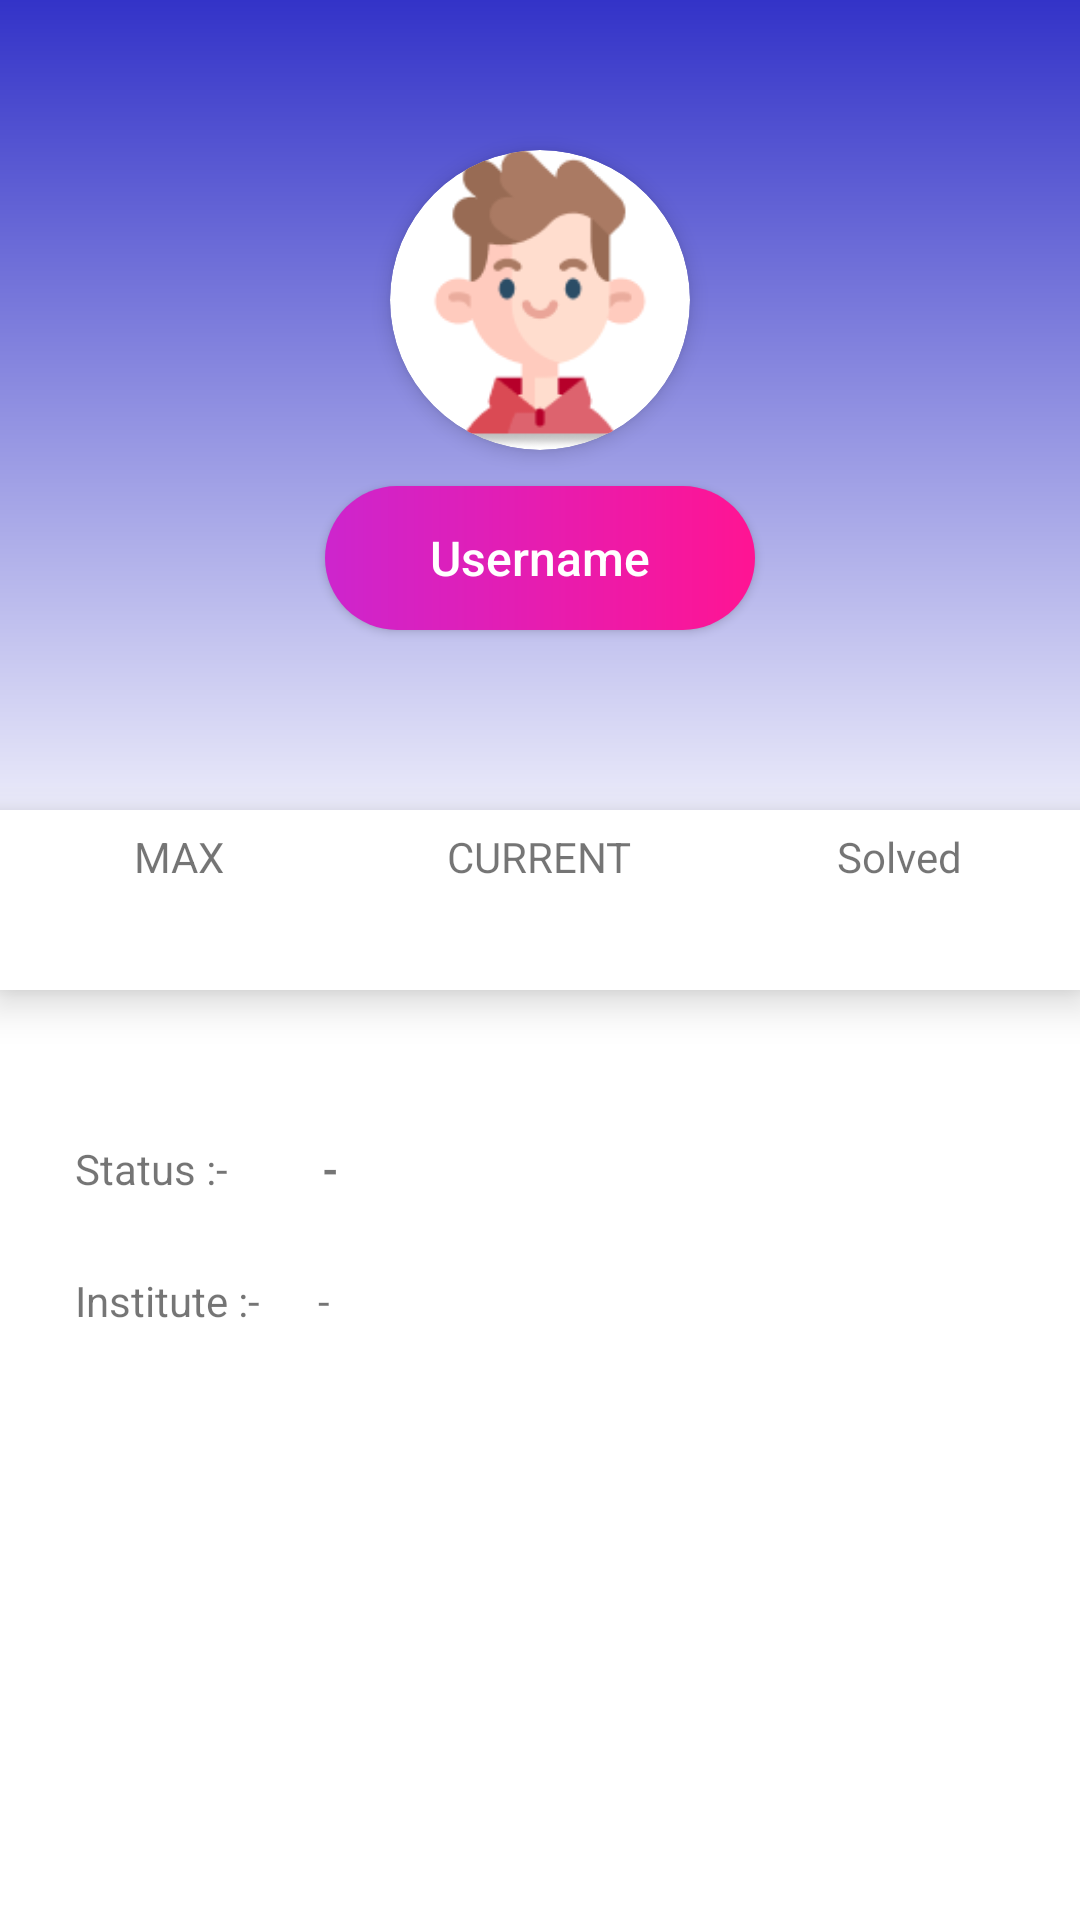

Icons on this 1080*1920 Android screen, each with the point to tap as point (x, y):
boy: point (540, 300)
